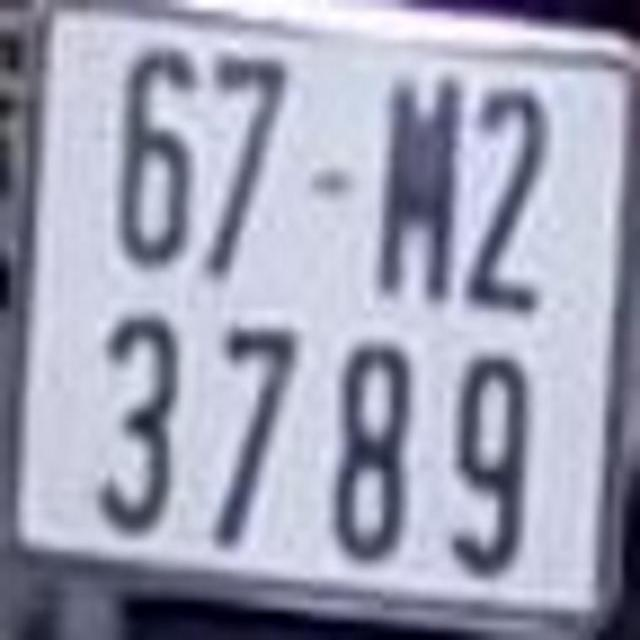2: (475, 86, 543, 316)
3: (105, 317, 170, 534)
6: (126, 45, 189, 262)
7: (216, 319, 300, 544), (210, 50, 289, 273)
8: (332, 336, 407, 557)
9: (459, 348, 525, 583)
M: (381, 72, 459, 311)
